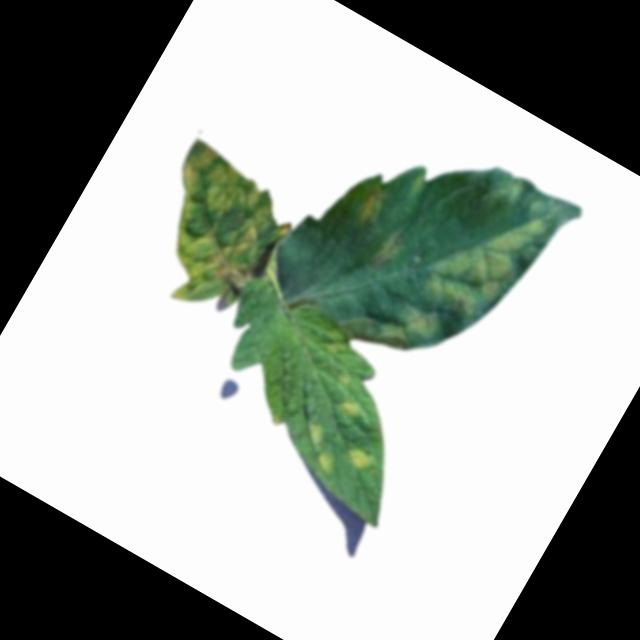Leaf_Mold: (368, 171, 547, 386), (116, 137, 305, 333), (291, 418, 349, 477), (351, 181, 390, 230), (344, 441, 375, 473), (333, 391, 363, 420)
